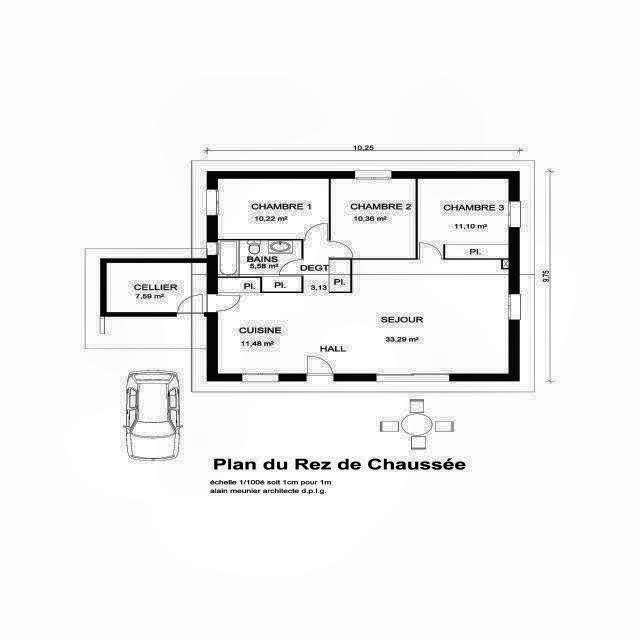room: (418, 179, 509, 258), (331, 179, 416, 258), (218, 179, 329, 239), (107, 263, 207, 312), (218, 240, 301, 292)
